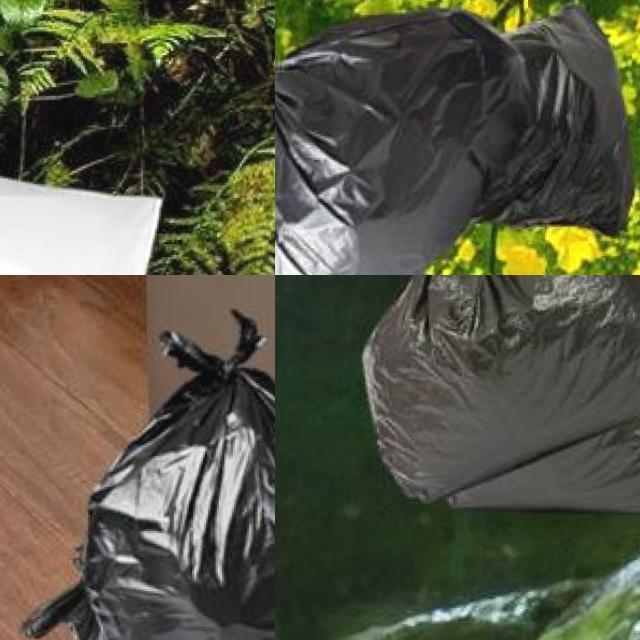waste: (353, 275, 640, 516), (275, 12, 527, 275), (84, 327, 275, 640), (490, 8, 640, 238), (0, 167, 153, 275)
